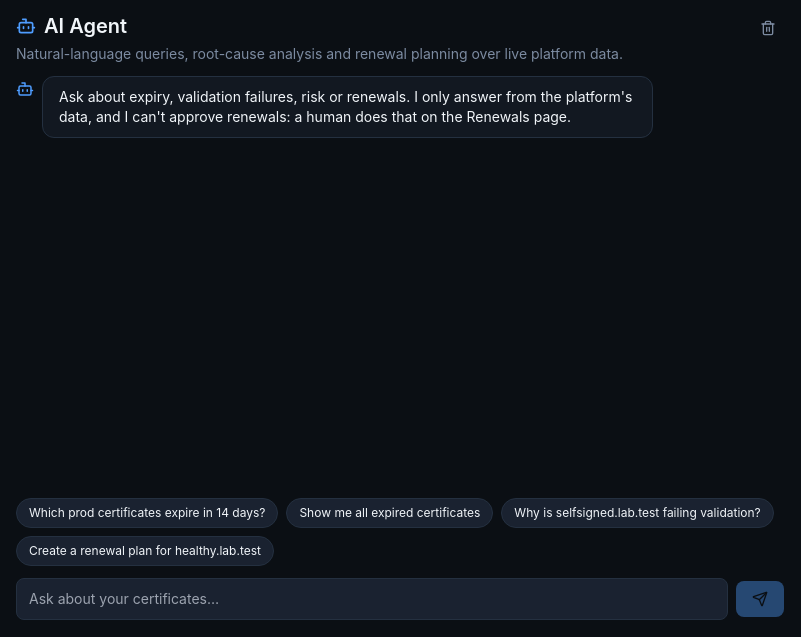
Test: AgentChat › shows a readable error when the request fails
The width and height of the screenshot is (801, 637).
In the field named "Message": (372, 599) [16,578,728,620], type "hello"
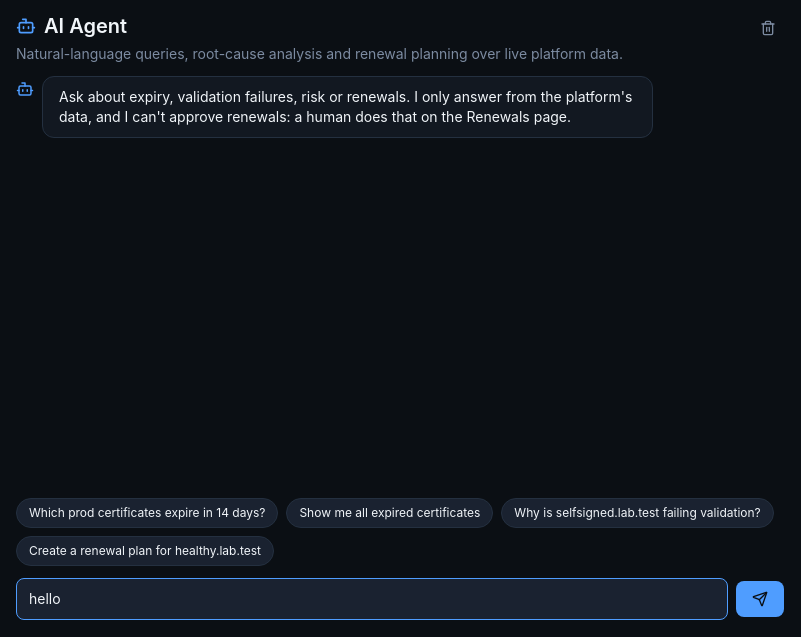
Click the button named "Send": click(760, 599) [736,581,784,617]
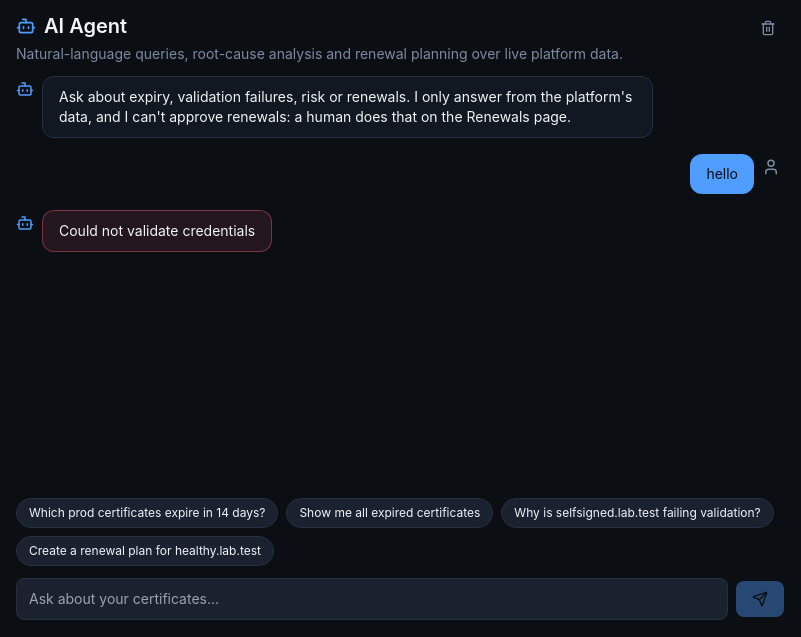
Result: the text "Could not validate credentials" is shown at [42,210,272,252]
